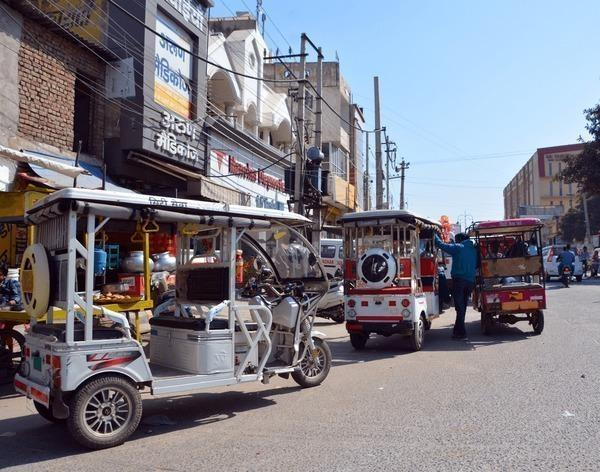keke: (458, 217, 550, 344)
